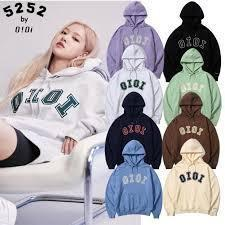sweater: (5, 56, 109, 161), (104, 141, 163, 219), (163, 138, 219, 215), (163, 93, 219, 164), (108, 92, 161, 164)
